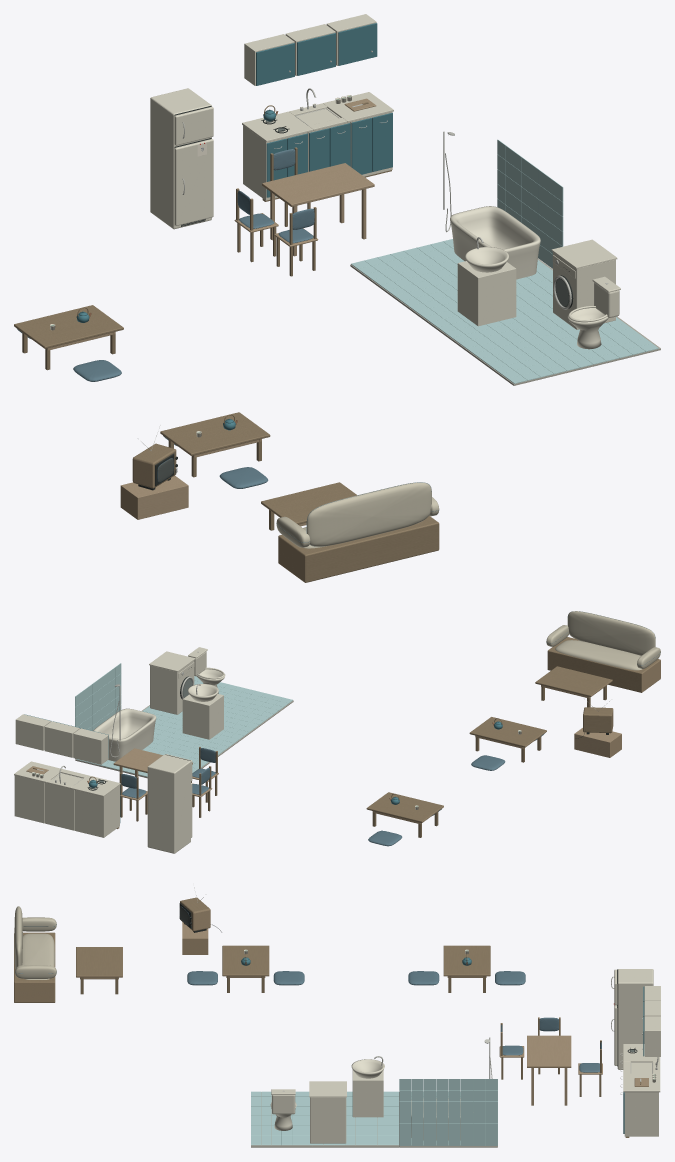
Rendered from furniture-ground-v10.glb.
3 views of the same model, one above another, from view 1: azimuth 30°, elevation 25°; view 2: azimuth 150°, elevation 25°; view 3: azimuth 270°, elevation 25° (orthographic). The views are drawn at different scales.
Parts seen in each view (by area): view 1: furniture_ground; view 2: furniture_ground; view 3: furniture_ground.
Boxes of the visible parts, left/top/right/bottom form: furniture_ground: left=14, top=14, right=660, bottom=582; furniture_ground: left=14, top=611, right=660, bottom=853; furniture_ground: left=14, top=887, right=660, bottom=1147.
Bounding box in the file's own units: 8.04 × 1.93 × 10.48.
Materials: 21 (12 with a texture image).
